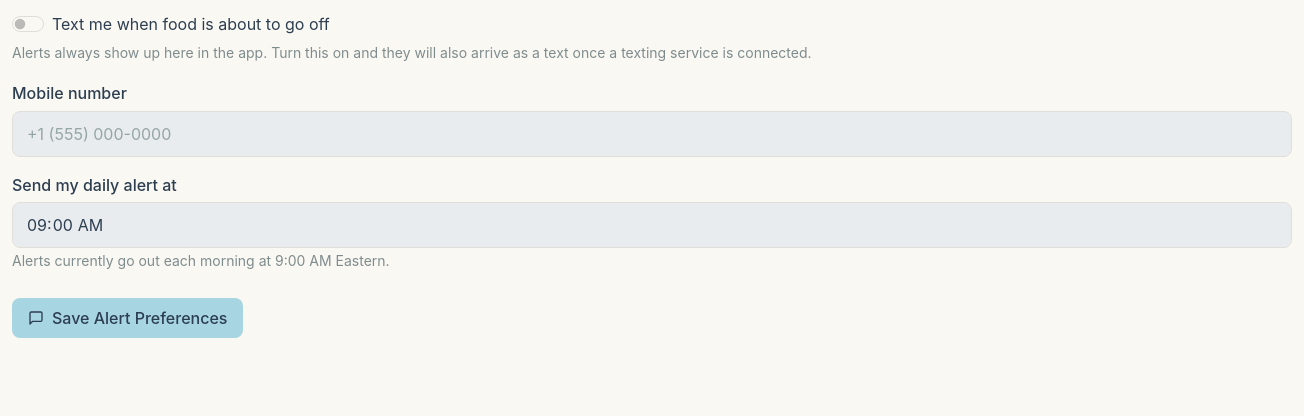
Test: SmsAlertSettings › refuses to turn texts on without a number to text
This screenshot has width=1304, height=416.
Click the checkbox labelled "Text me when food is about to go off": [28, 24] box [12, 16, 44, 32]
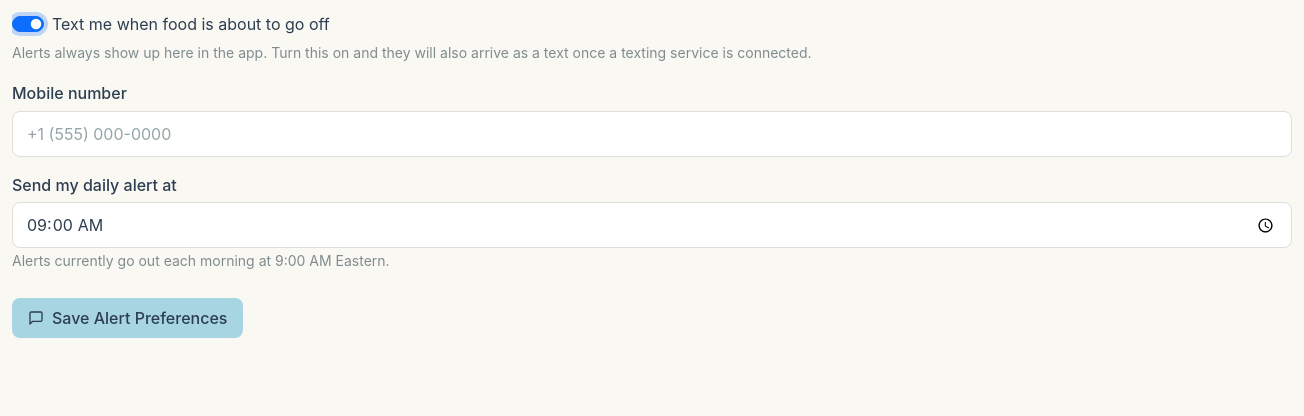
Click the button "Save Alert Preferences": [128, 318] box [12, 298, 243, 338]
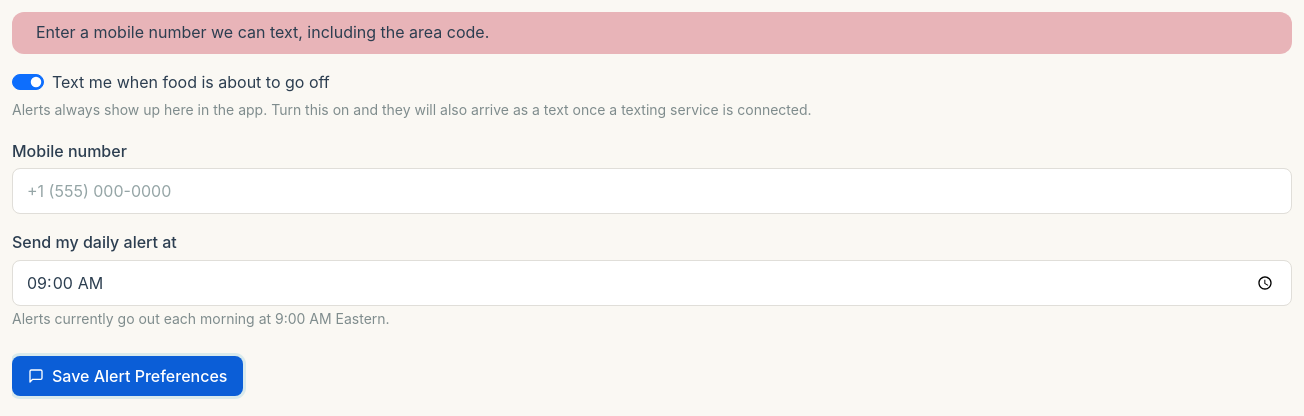
Check: the text "Enter a mobile number we can text, including the area code." is shown, box [12, 12, 1292, 54]
